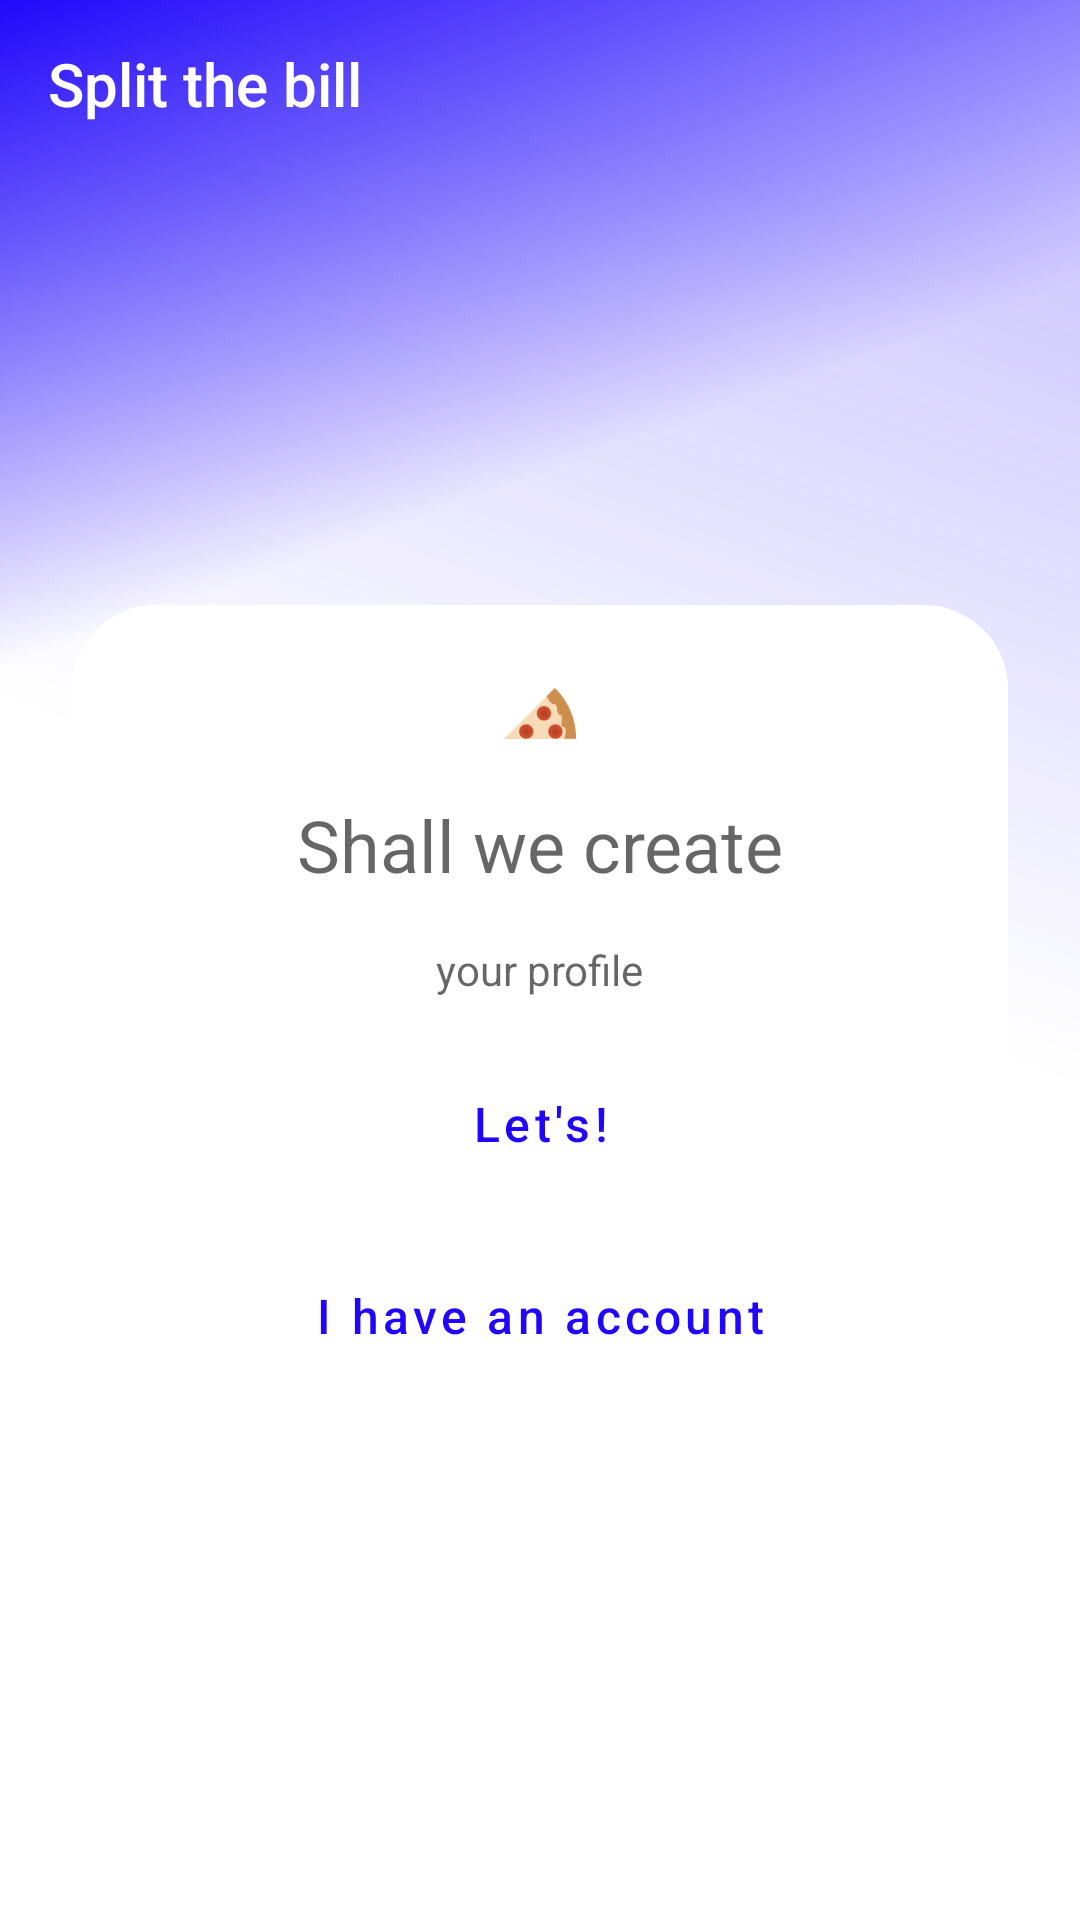

Where to tap for icons on this 1080w x 1920h app screen, as (x=x, y=y):
pizza: (x=540, y=713)
